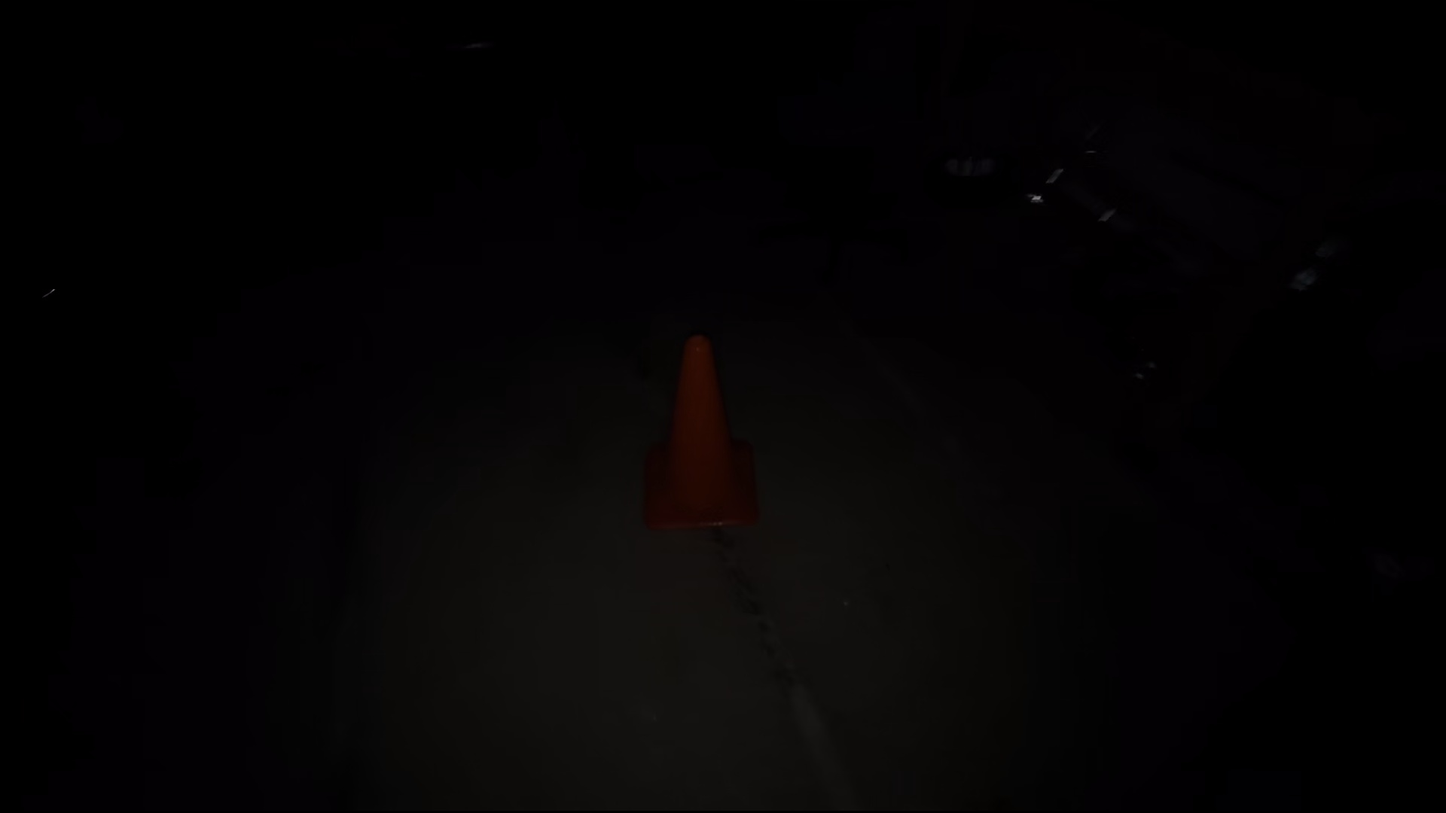traffic_cone: (642, 333, 759, 531)
